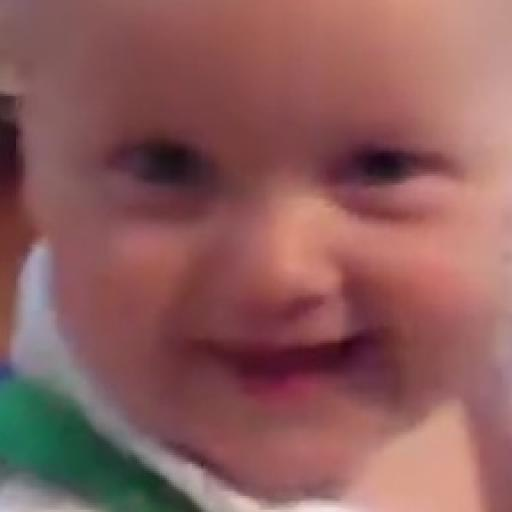Autism: (23, 1, 509, 494)
